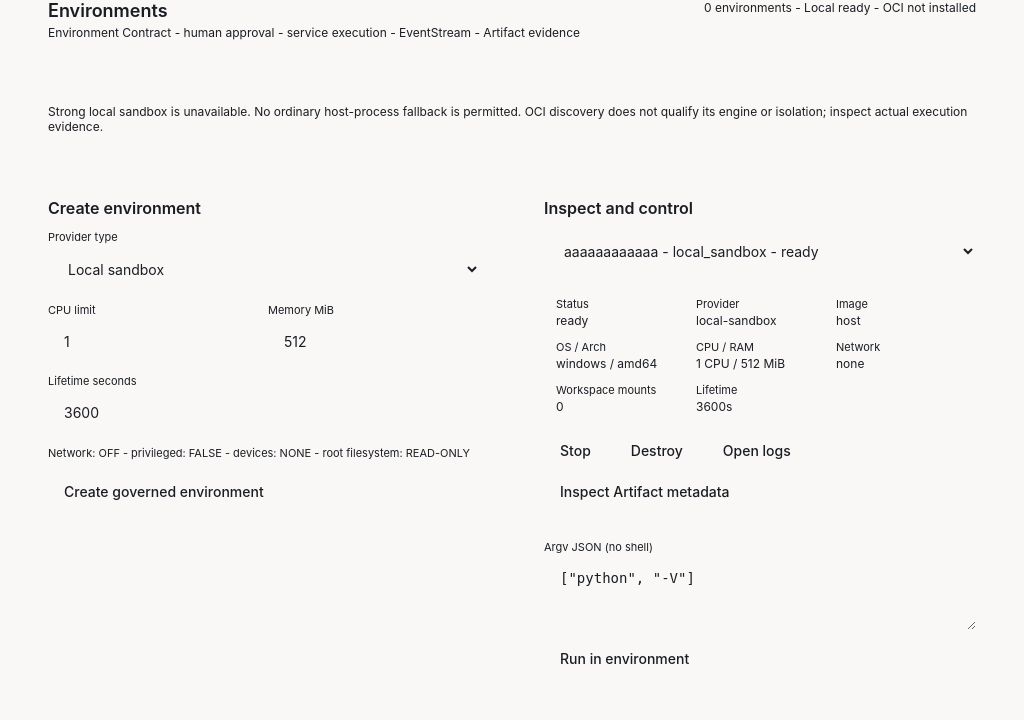
it: environment inspector › does not offer reapproval or execute again after an approved command loses its response
The image size is (1024, 720).
Step 1. Click the button "Run in environment" → (625, 658), box [544,642,705,675]
(page scrolled)
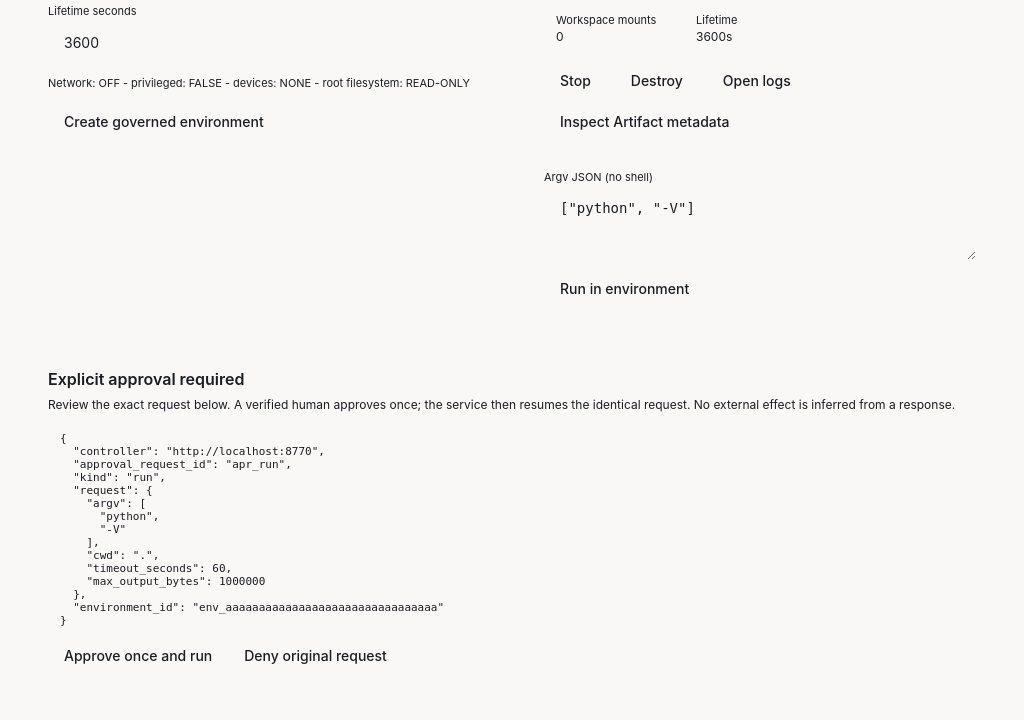
Step 2. Click the button "Approve once and run" → (138, 656), box [48,639,228,672]
(page scrolled)
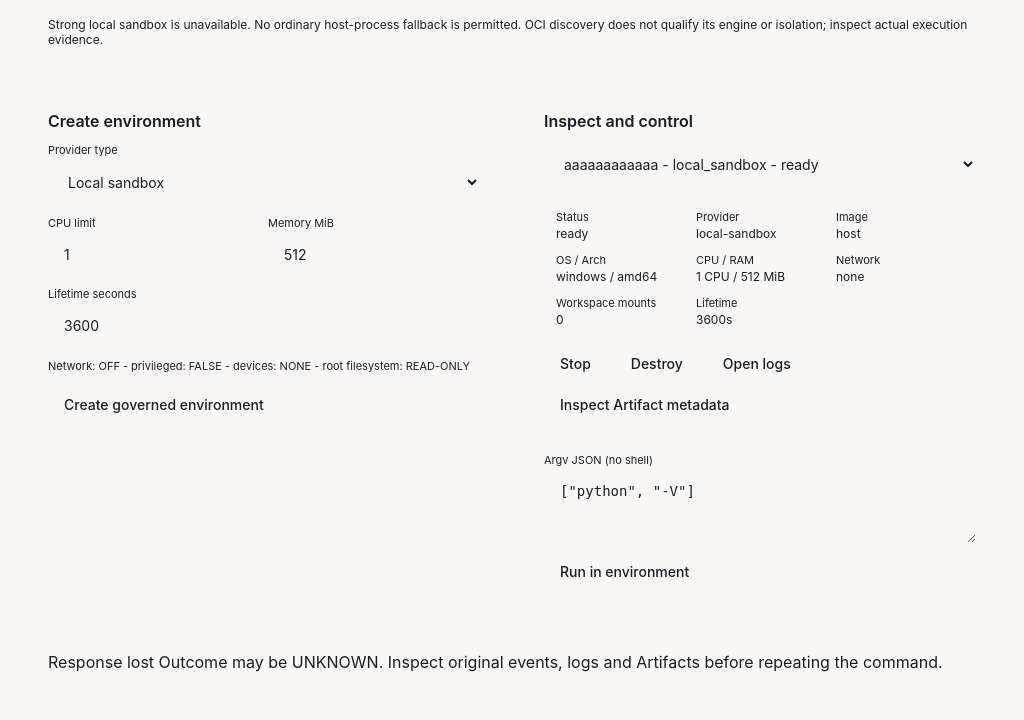
Result: the text "Explicit approval required" is gone
